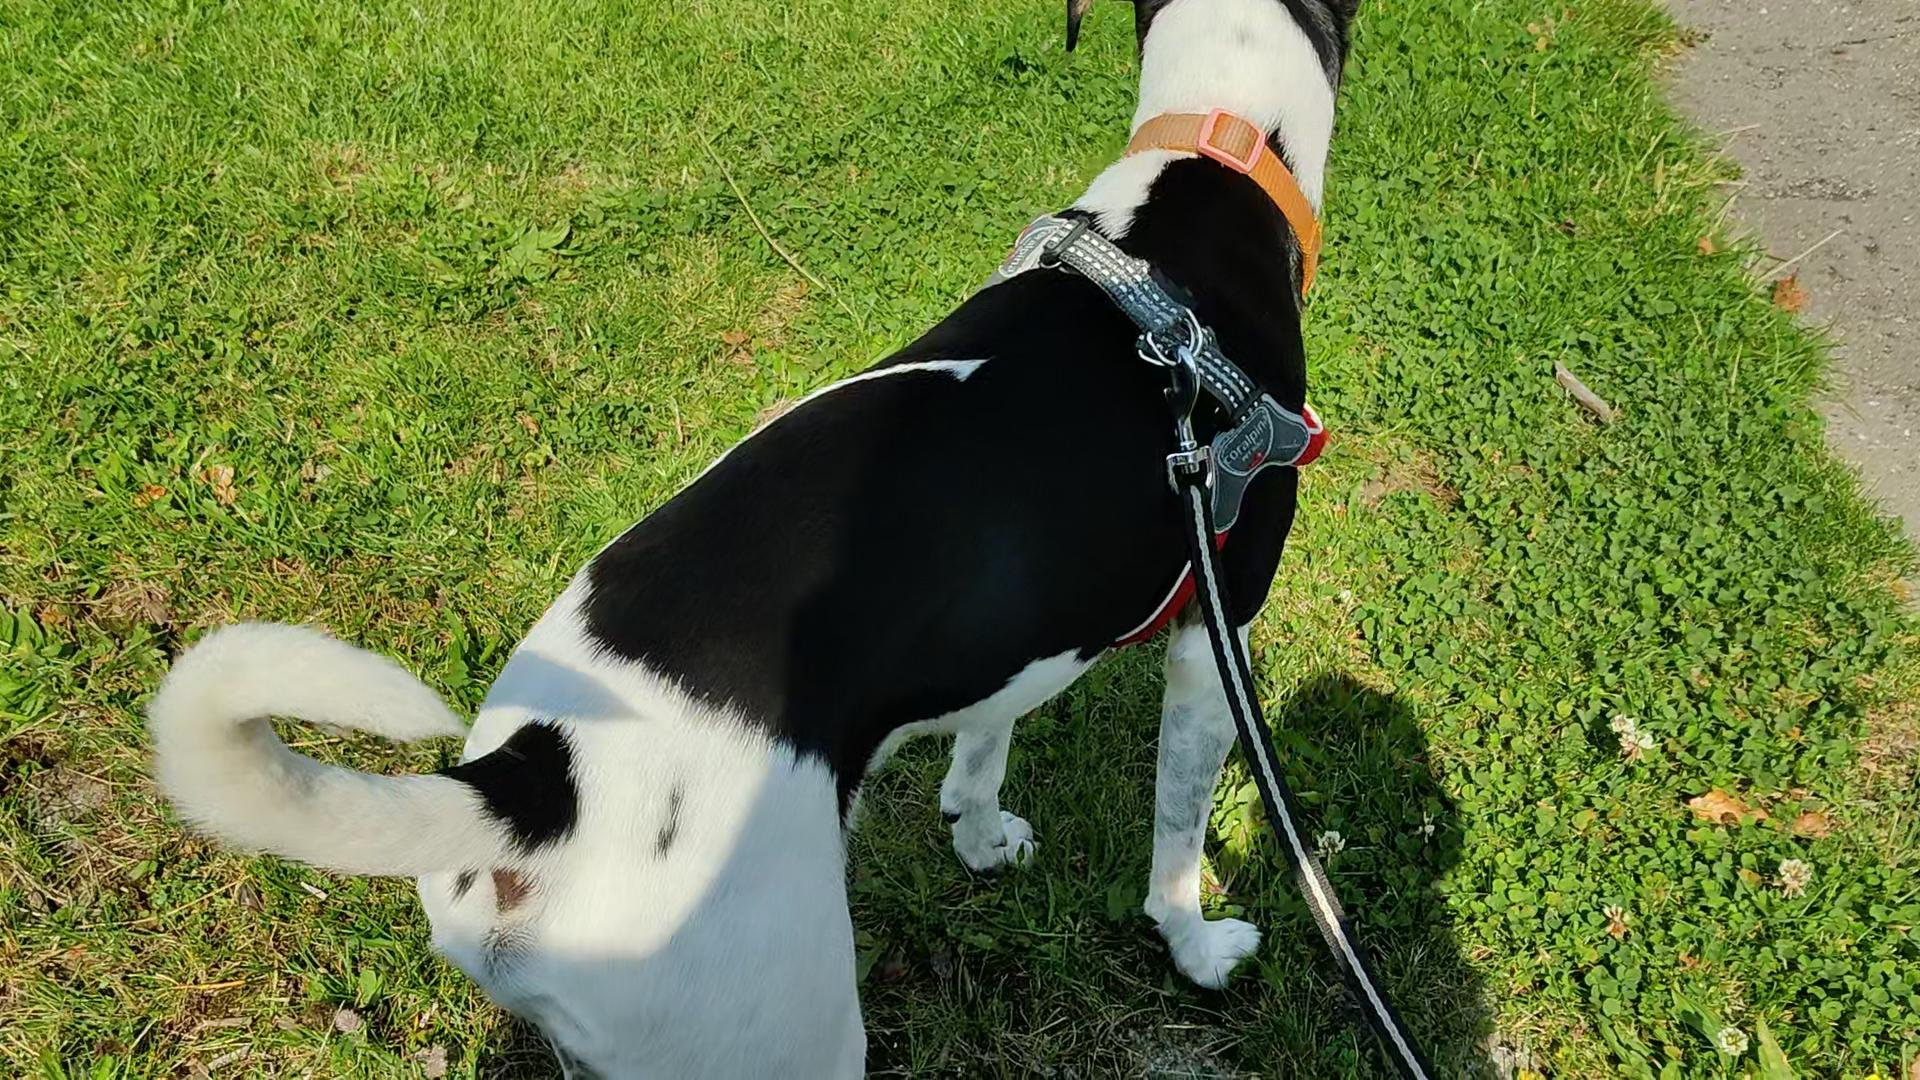Dog: (131, 0, 1366, 1079)
